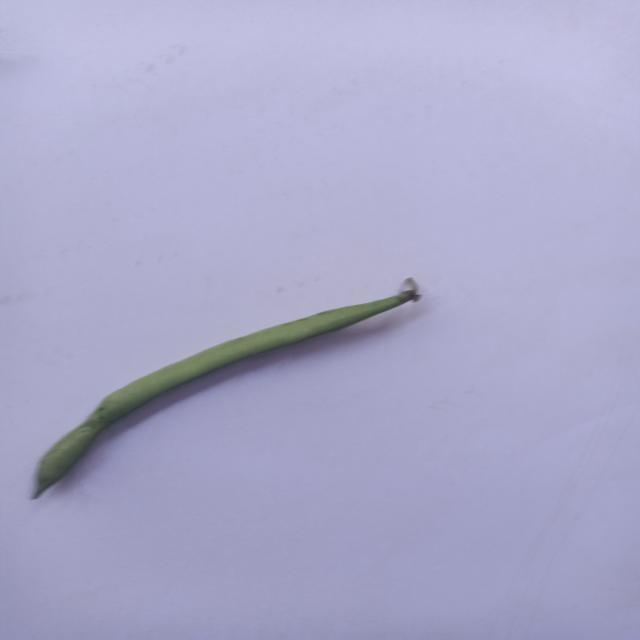Beans: (19, 274, 432, 521)
